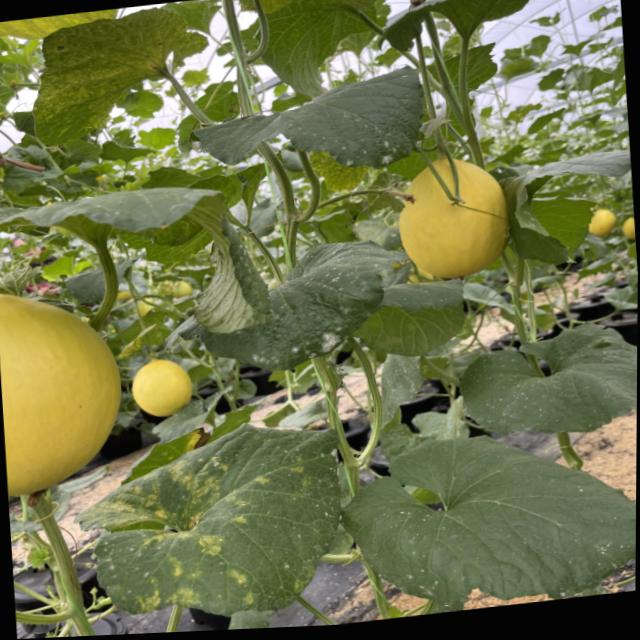downy mildew: (63, 400, 377, 637), (196, 225, 415, 373), (29, 2, 222, 153), (202, 0, 419, 117), (0, 172, 228, 275)
healthy: (355, 425, 637, 616), (447, 319, 637, 446), (271, 60, 442, 171), (333, 261, 498, 368), (478, 133, 632, 208)
